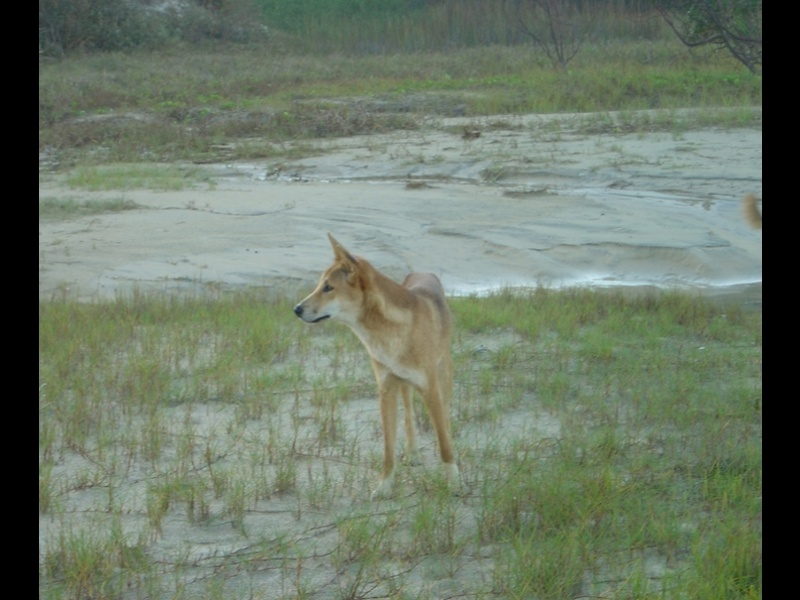dog: (293, 231, 475, 500)
